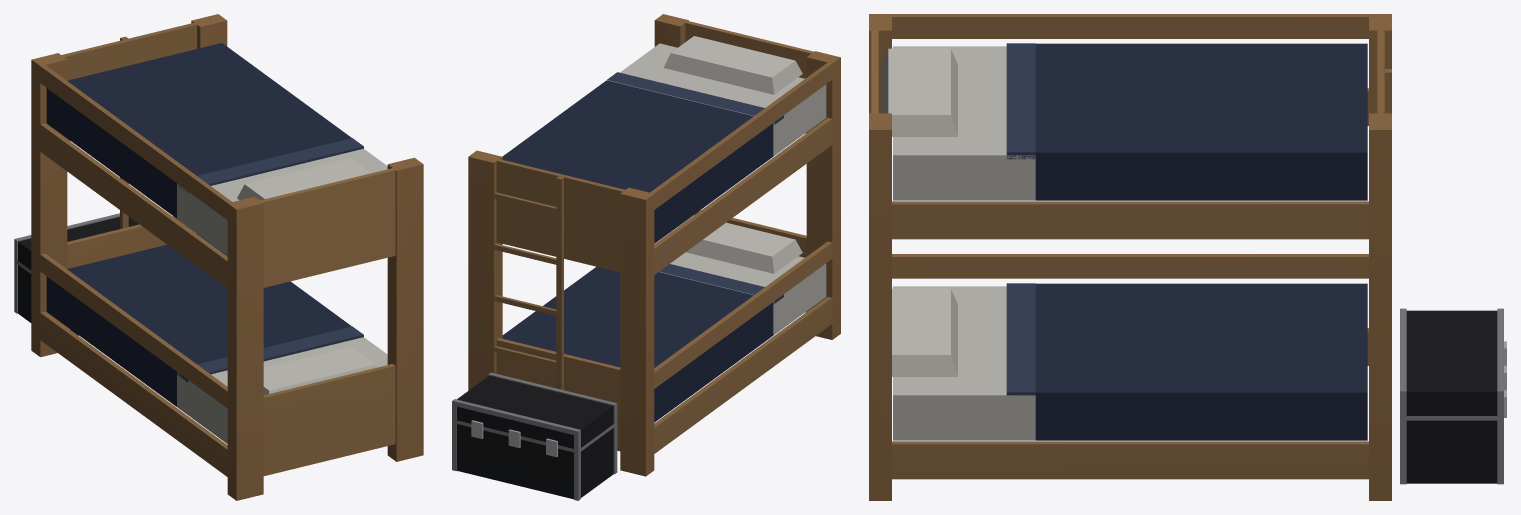
The model's file is bed.bunk_chest.cadet.glb.
The picture shows the model from 3 angles, left to right: view 1: azimuth 30°, elevation 25°; view 2: azimuth 150°, elevation 25°; view 3: azimuth 270°, elevation 25°; orthographic projection. The views are drawn at different scales.
Visible parts, largest first — view 1: bed_bunk_chest_cadet; view 2: bed_bunk_chest_cadet; view 3: bed_bunk_chest_cadet.
Boxes of the visible parts, x1,y1,x2,y2 form: bed_bunk_chest_cadet: [14, 14, 423, 500]; bed_bunk_chest_cadet: [452, 14, 840, 500]; bed_bunk_chest_cadet: [869, 14, 1506, 500].
Size of what is drawn, in the model's own units: 1.14 by 1.7 by 2.65.
